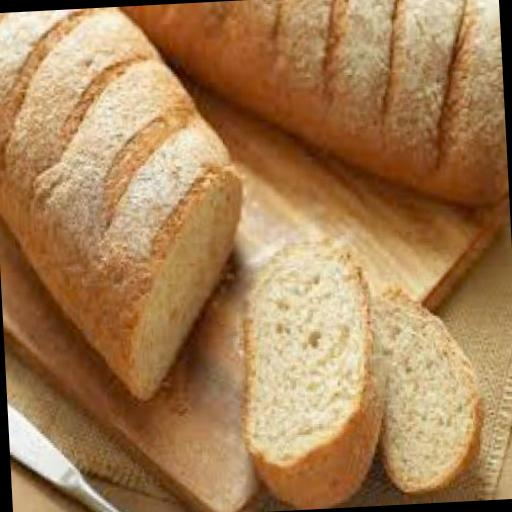biodegradable: (0, 1, 251, 406), (108, 0, 507, 222), (235, 234, 394, 510), (368, 282, 485, 500)
metal: (7, 397, 124, 512)
